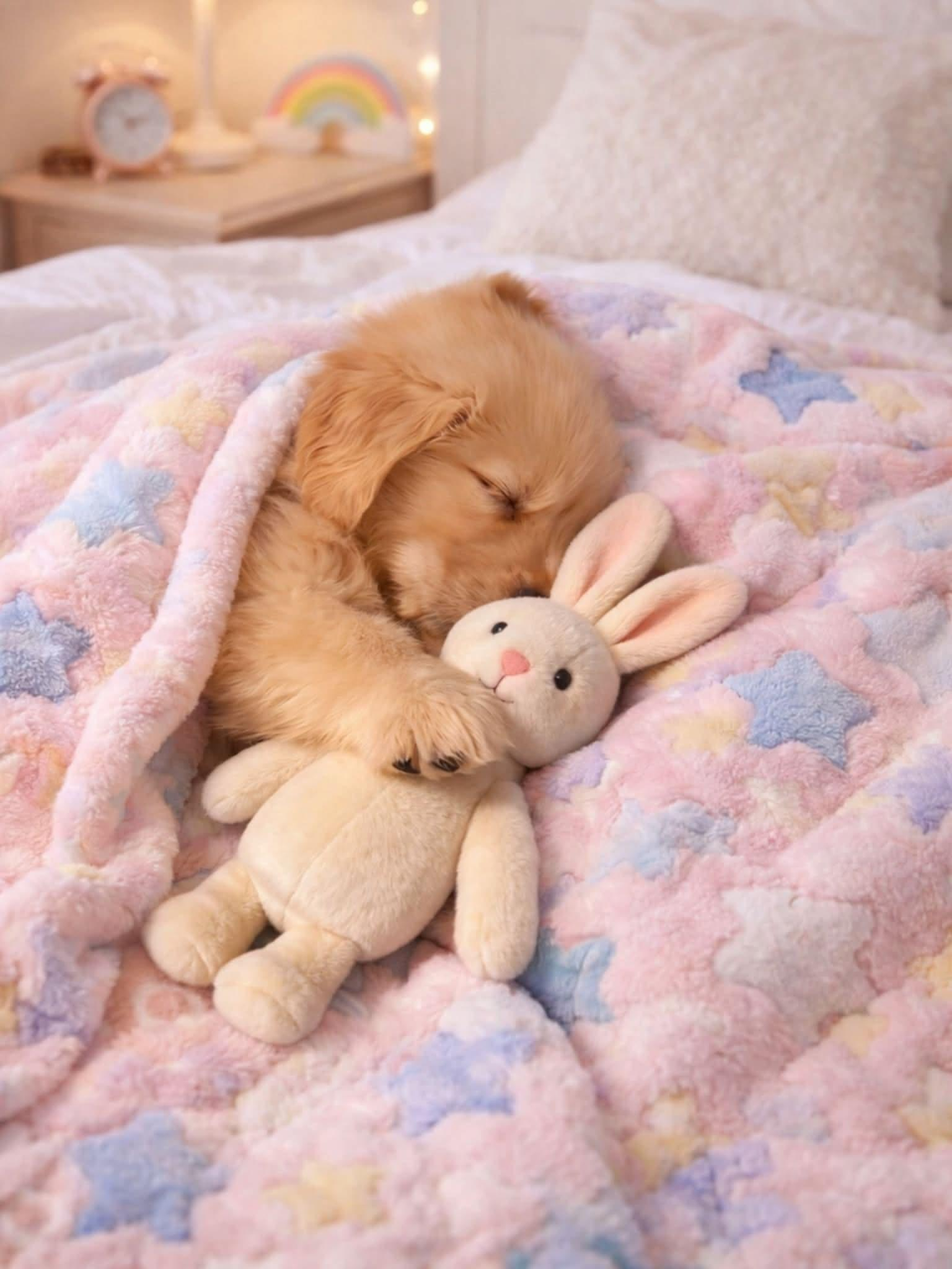non-dog: (139, 488, 757, 1048)
puppy-dog: (200, 269, 628, 782)
